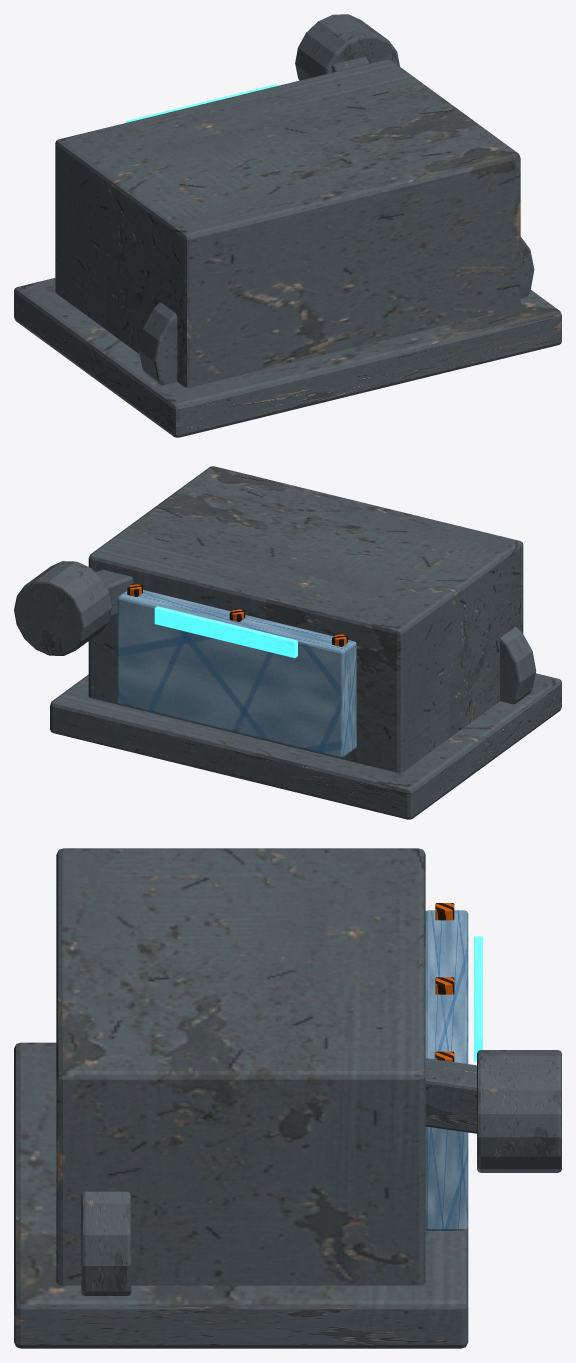
File: salvage_pod.glb
3 renders of one model, top to bottom at view 1: azimuth 30°, elevation 25°; view 2: azimuth 150°, elevation 25°; view 3: azimuth 270°, elevation 25°, orthographic. The views are drawn at different scales.
Visible parts, largest first — view 1: PodHull, PodBase, PodToolHead, PodWheel_-1.52, PodWheel_1.52; view 2: PodHull, PodFrontArmor, PodBase, PodToolHead, PodDiagnostic, PodWheel_-1.52, PodToolArm; view 3: PodHull, PodBase, PodFrontArmor, PodToolHead, PodWheel_1.52, PodToolArm, PodDiagnostic.
Boxes of the visible parts, x1,y1,x2,y2 form: PodHull: (55,59,520,387); PodBase: (14,278,561,437); PodToolHead: (295,14,399,80); PodWheel_-1.52: (138,302,177,385); PodWheel_1.52: (520,237,534,297); PodHull: (88,466,523,772); PodFrontArmor: (117,590,356,757); PodBase: (50,673,561,819); PodToolHead: (14,561,111,655); PodDiagnostic: (154,606,297,658); PodWheel_-1.52: (500,626,536,704); PodToolArm: (96,570,133,616); PodHull: (56,848,425,1285); PodBase: (14,1042,468,1348); PodFrontArmor: (425,910,468,1230); PodToolHead: (477,1050,561,1172); PodWheel_1.52: (81,1191,131,1295); PodToolArm: (425,1058,476,1133); PodDiagnostic: (474,936,482,1061).
Size of the model in its own units: 4.29 by 2.05 by 3.74.
Materials: 5 (5 with a texture image).
